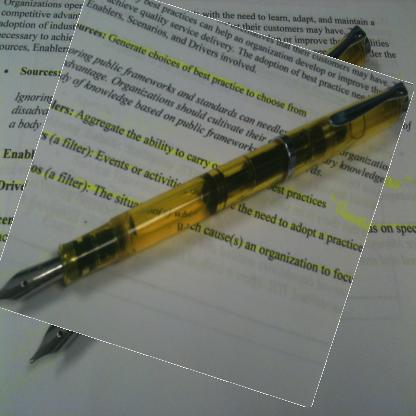Pen: (8, 2, 393, 386)
